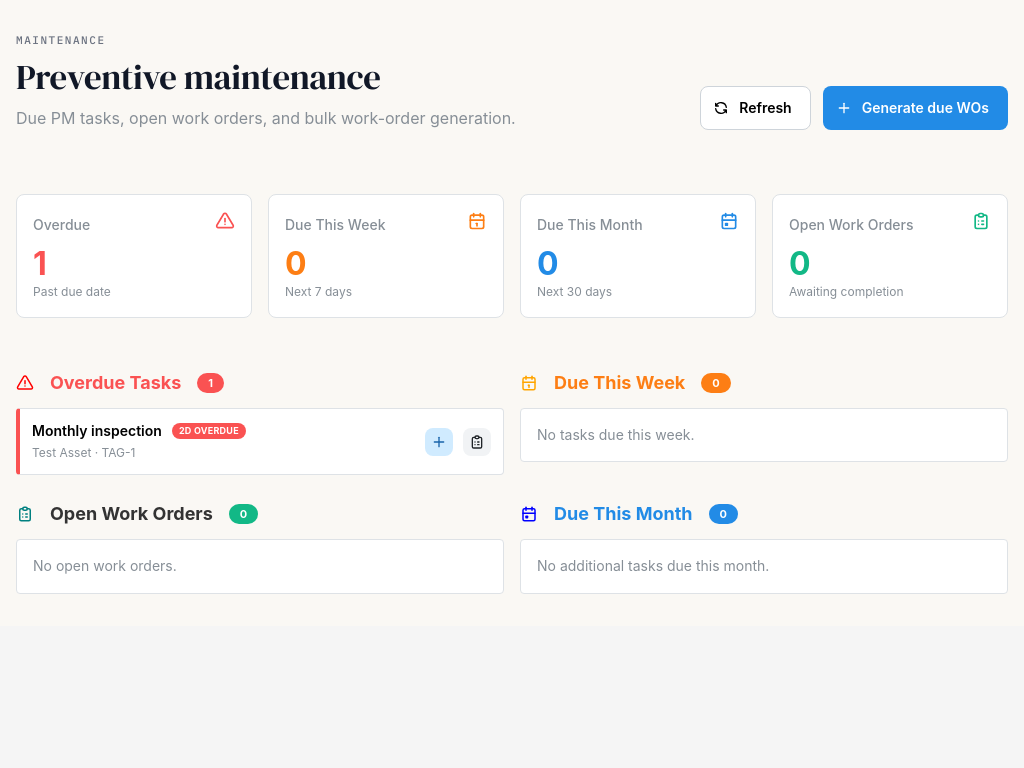
Test case: MaintenanceDashboard low-stock flow › shows low-stock banner with reorder CTA when alerts returned
The width and height of the screenshot is (1024, 768).
What coordinates should you click on to do the following:
click the button named "generate work order"
I would click on:
 (439, 442)
Its box is x1=425 y1=428 x2=453 y2=456.
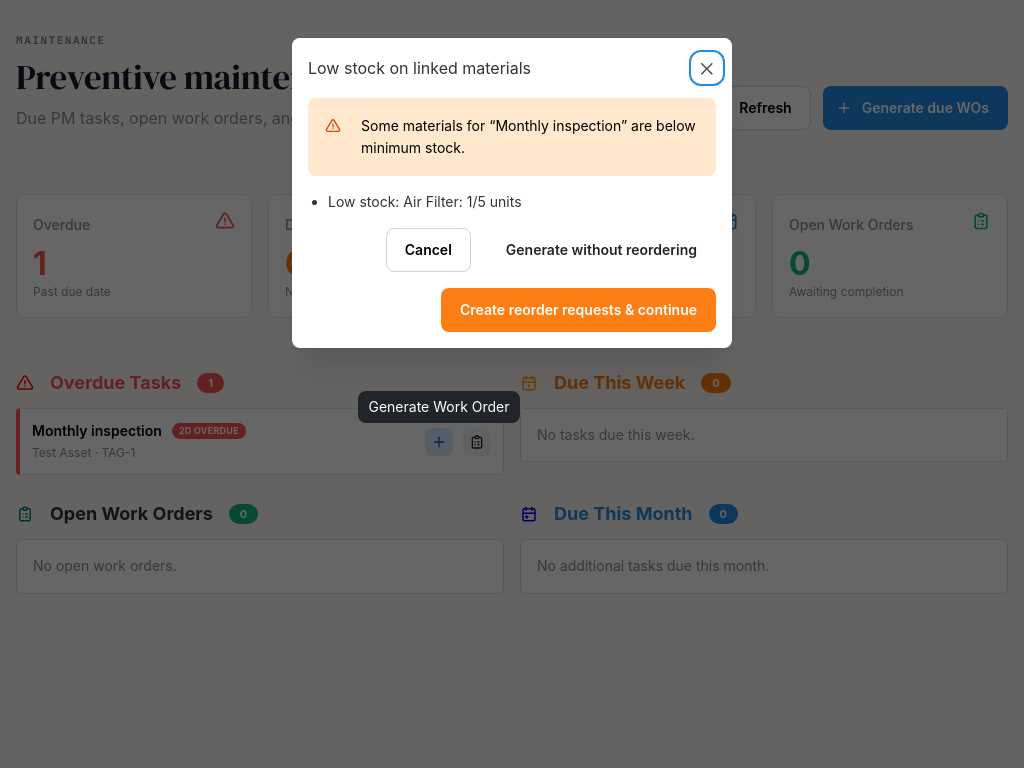
Expected: the message "Some materials for “Monthly inspection” are below minimum stock." is shown, x1=308 y1=98 x2=716 y2=176
Expected: the list item with test id "low-stock-alert" reads "Low stock: Air Filter: 1/5 units", x1=328 y1=193 x2=522 y2=210
Expected: the button "Create reorder requests & continue" is shown, x1=441 y1=288 x2=716 y2=332
